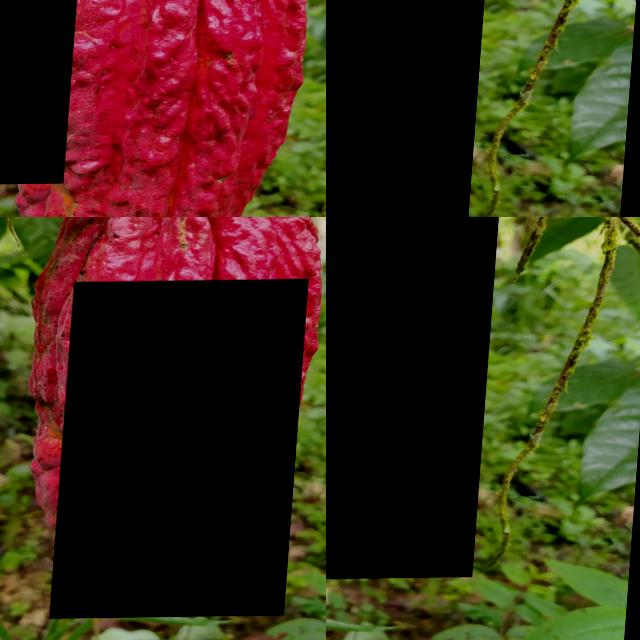Sana: (58, 281, 311, 619), (326, 217, 505, 581), (326, 0, 490, 217), (0, 0, 84, 185)
